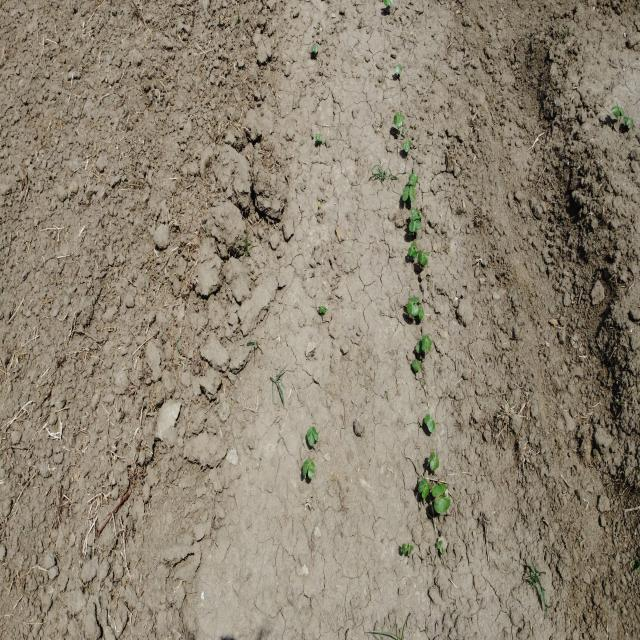seedling: (434, 497, 450, 513), (432, 483, 447, 497), (424, 414, 435, 432), (407, 303, 419, 316), (418, 478, 428, 493), (303, 458, 311, 476), (409, 220, 421, 232), (422, 483, 431, 499), (402, 543, 414, 555), (418, 252, 428, 266), (308, 461, 315, 479), (430, 457, 439, 471), (311, 426, 319, 441), (307, 429, 314, 446), (393, 115, 402, 128), (402, 185, 409, 201), (611, 106, 620, 118), (616, 103, 624, 116), (409, 186, 415, 203), (408, 247, 417, 258), (412, 172, 418, 188), (427, 452, 435, 464), (404, 139, 411, 152), (426, 334, 431, 351), (416, 340, 422, 354), (408, 296, 419, 303), (412, 360, 418, 372), (395, 113, 405, 120), (410, 213, 420, 220), (419, 306, 424, 319), (422, 335, 426, 351), (410, 207, 417, 216), (436, 540, 443, 549), (395, 65, 402, 73), (411, 242, 418, 250), (623, 116, 630, 124), (319, 307, 326, 314), (408, 173, 412, 185), (628, 117, 633, 126), (312, 46, 318, 52), (316, 135, 322, 141), (312, 44, 316, 47)
